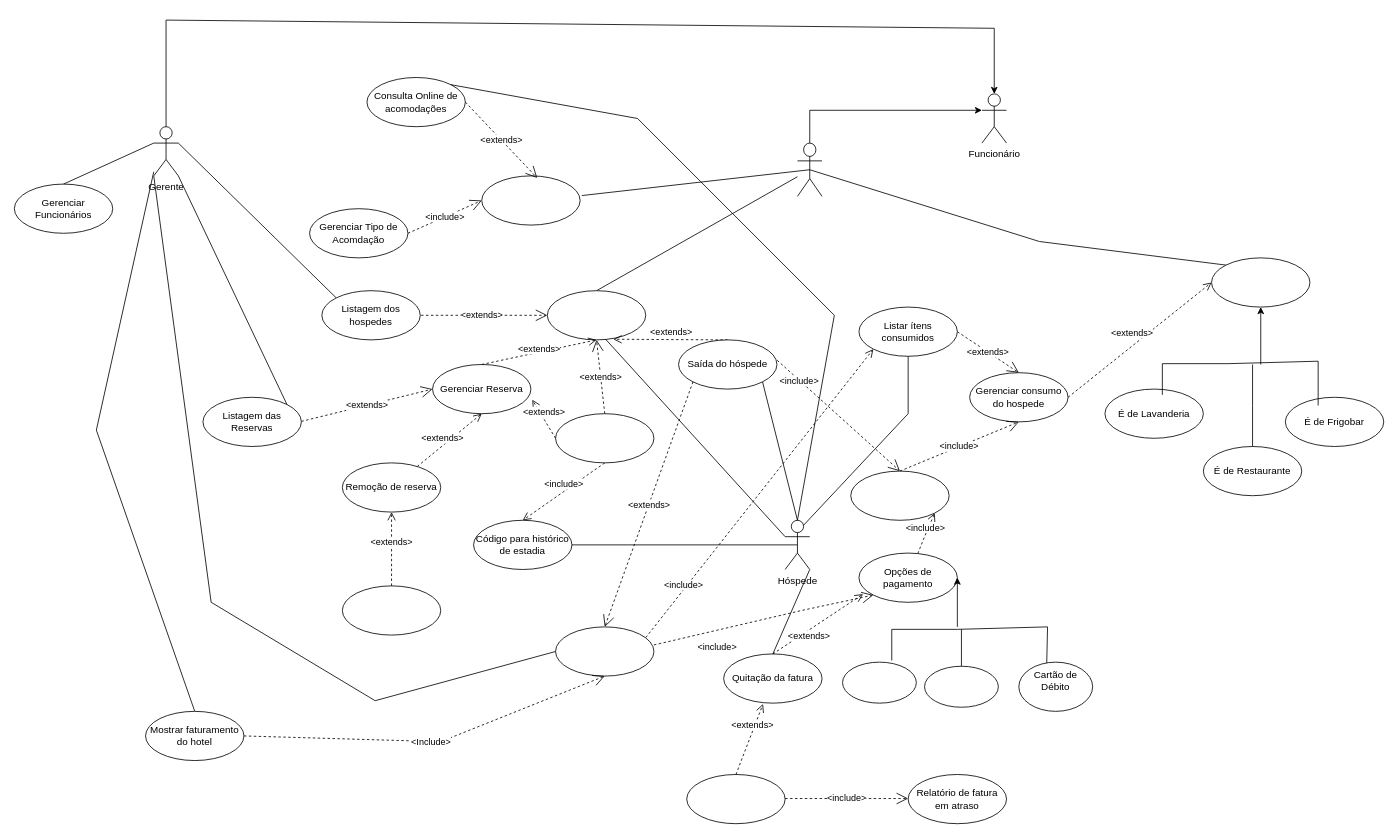
The diagram is 1398 pixels wide and 838 high, and some of its shapes have lost their labels. The shapes that lost their labels are listed below. From the top down, each one's centre as x and y in pixels, then its label:
At point 809,169: "Recepcionista".
At point 530,200: "Gerenciar Acomodação".
At point 1260,282: "Gerenciar Ítem Consumo".
At point 596,315: "Gerenciar Hospede".
At point 604,438: "Entrada do hóspede".
At point 899,495: "Mostrar Total a pagar".
At point 391,610: "Cobrar taxa de multa".
At point 604,651: "Imprimir comprovante de saida".
At point 879,682: "Dinheiro".
At point 961,686: "Cartão de Crédito".
At point 735,799: "Impresssão de fatura".
